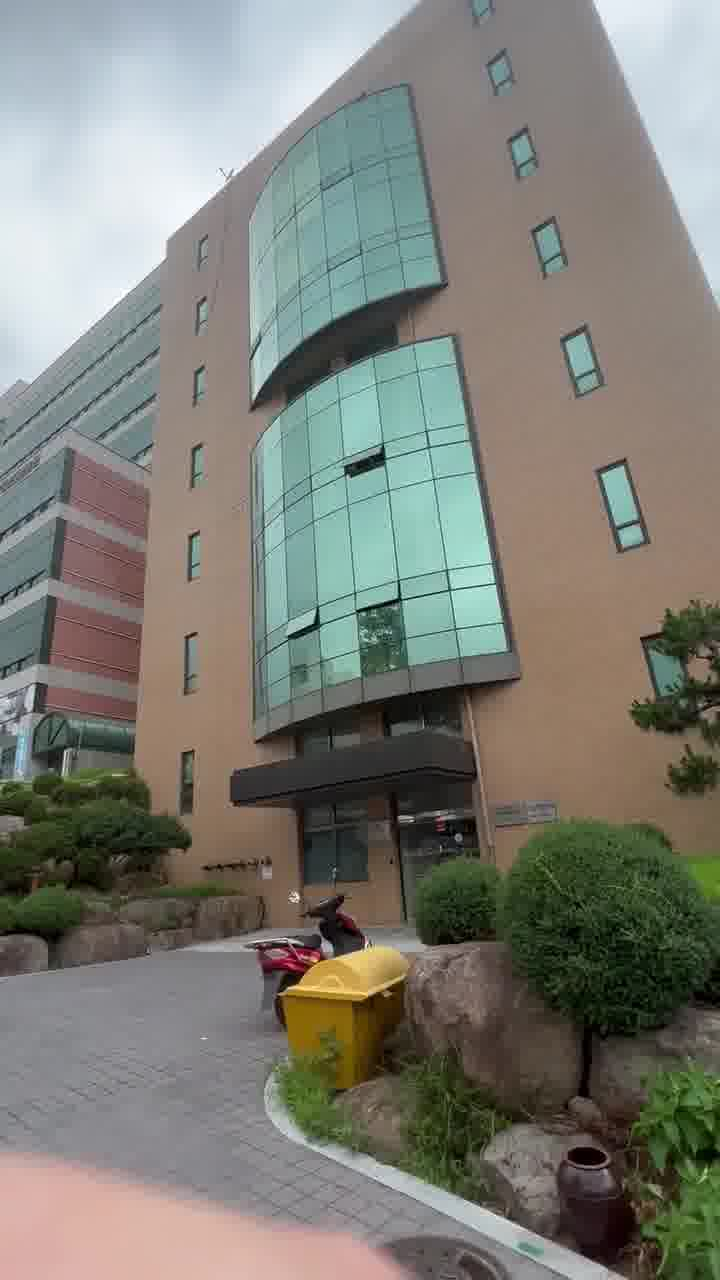low: (196, 42, 574, 796)
